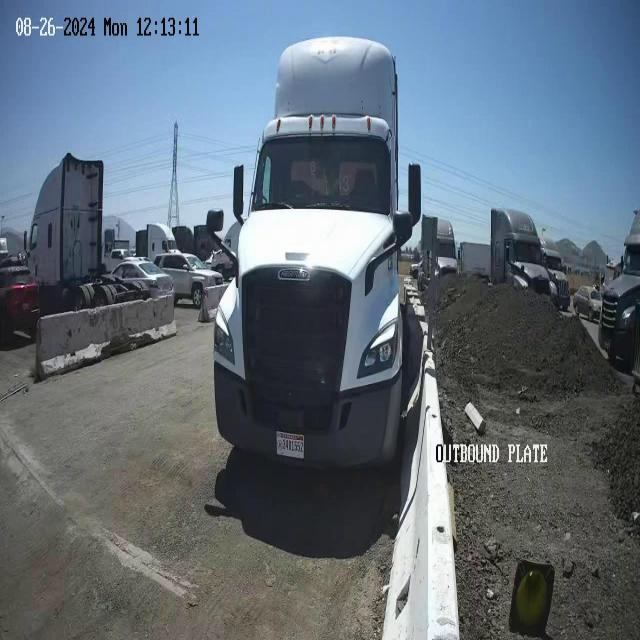TRUCK_OUT: (212, 34, 426, 476)
